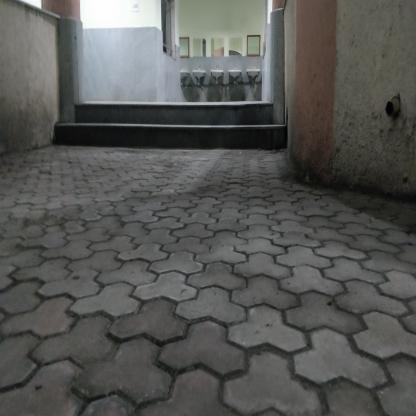stairs: (76, 102, 271, 152)
